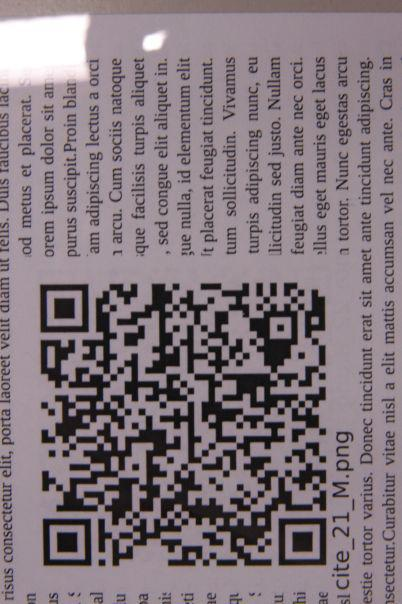Finder pattern: (33, 280, 94, 340), (38, 514, 97, 574), (274, 515, 331, 569)
